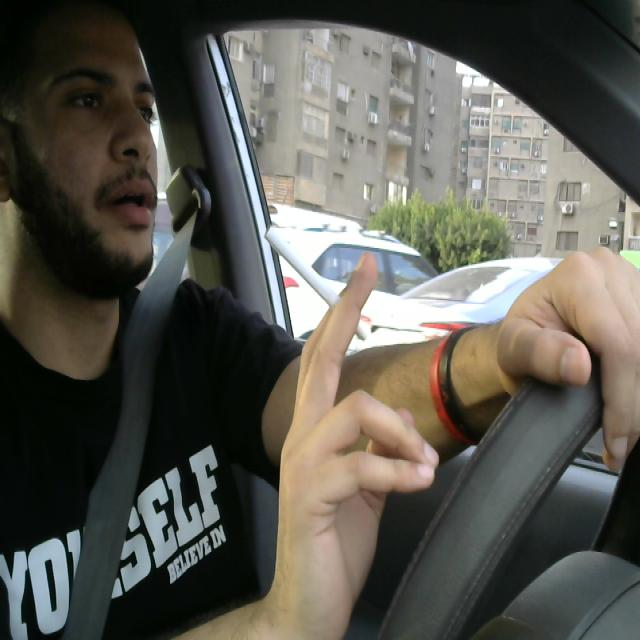smoking: (263, 222, 373, 346)
